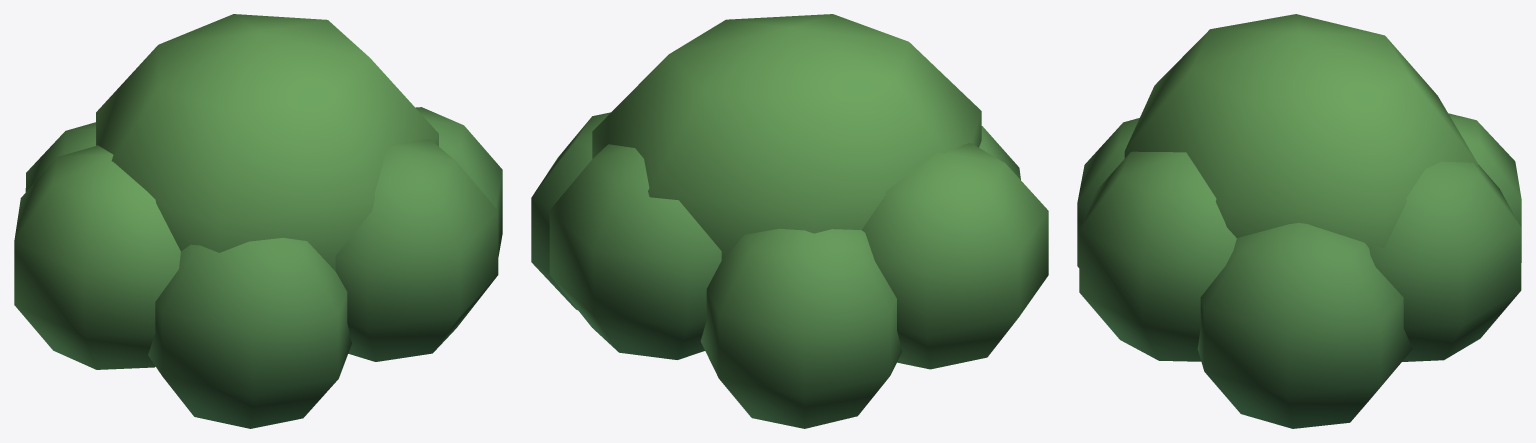
Rendered from bush_large.glb.
3 renders of one model, left to right at view 1: azimuth 30°, elevation 25°; view 2: azimuth 150°, elevation 25°; view 3: azimuth 270°, elevation 25°, orthographic. The views are drawn at different scales.
Parts seen in each view (by area): view 1: bush_large; view 2: bush_large; view 3: bush_large.
Boxes of the visible parts, x1=… form: bush_large: x1=14, y1=14, x2=502, y2=428; bush_large: x1=531, y1=14, x2=1048, y2=428; bush_large: x1=1077, y1=14, x2=1521, y2=428.
Bounding box in the file's own units: 1.82 × 1.2 × 1.52.
